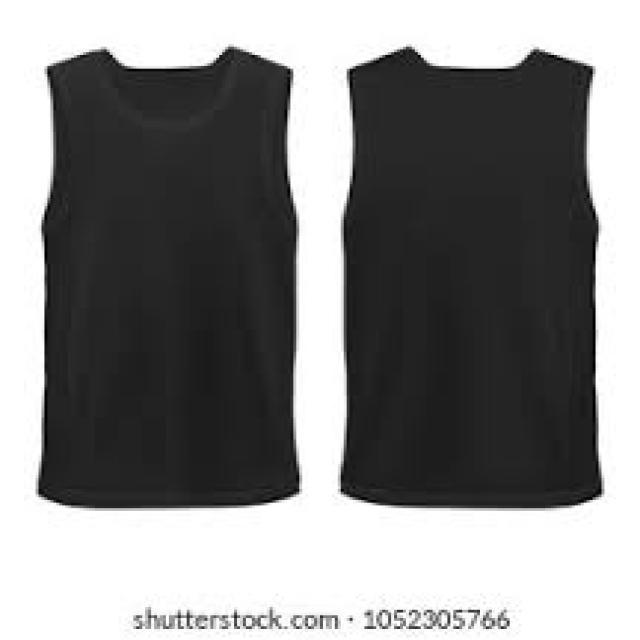no_vest: (38, 43, 304, 511), (339, 44, 605, 510)
